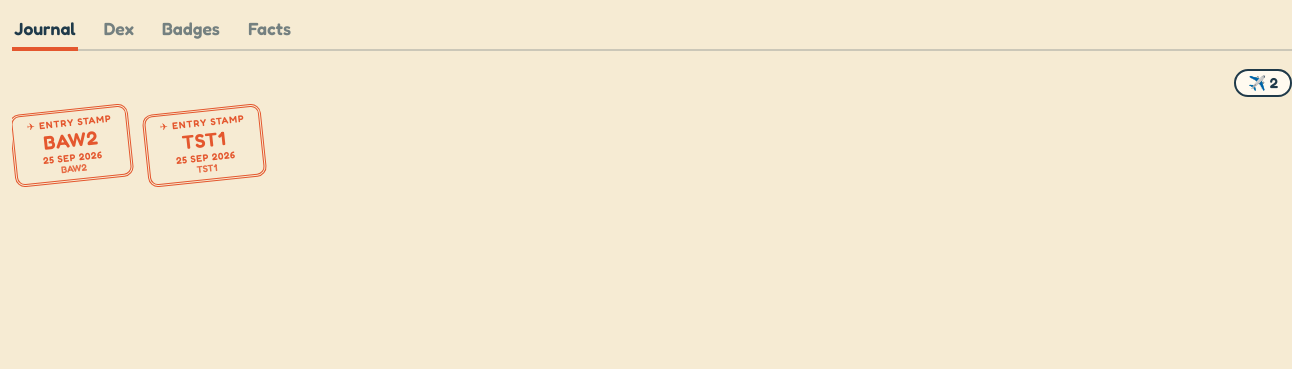
it: facts are grouped by subject, with a count
Click the button "Facts" at (269, 32), box [246,12,293,51]
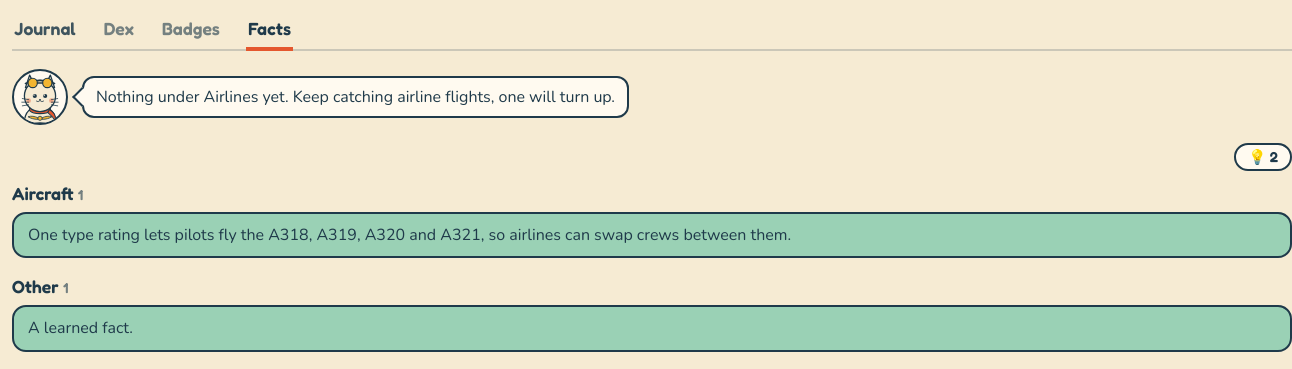
Check: the list "A learned fact." is shown, box [12,305,1291,352]
